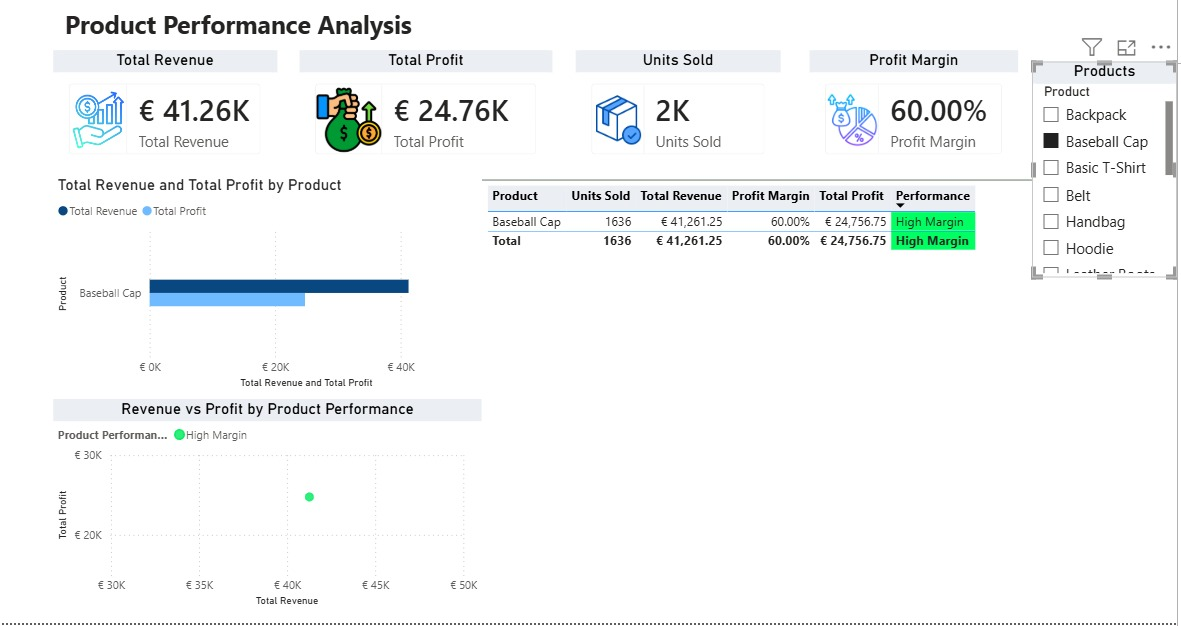

The dashboard page shown, as its layout file describes it:
{"tool":"powerbi","page":{"name":"Product Performance Analysis","canvas":[1280,720],"ordinal":1},"visuals":[{"type":"cardVisual","title":"Total Revenue","fields":{"Data":["Sales.Total Revenue"]},"box":[60.4,98.8,242.9,130.4],"z":0},{"type":"cardVisual","title":"Total Profit","fields":{"Data":["Sales.Total Profit"]},"box":[328,98.8,274.4,130.4],"z":1000},{"type":"cardVisual","title":"Units Sold","fields":{"Data":["Sales.Units Sold"]},"box":[628.5,98.8,222.3,130.4],"z":2000},{"type":"cardVisual","title":"Profit Margin","fields":{"Data":["Sales.Profit Margin"]},"box":[881,98.8,226.4,130.4],"z":3000},{"type":"clusteredBarChart","fields":{"Y":["Sales.Total Revenue","Sales.Total Profit"],"Category":["Products.Product"]},"box":[60.4,234.6,465.2,236],"z":4000},{"type":"slicer","title":"Products","fields":{"Values":["Products.Product"]},"box":[1122.5,111.1,157.8,234.6],"z":5000},{"type":"scatterChart","title":"Revenue vs Profit by Product Performance","fields":{"X":["Sales.Total Revenue"],"Y":["Sales.Total Profit"],"Category":["Products.Product"],"Series":["Sales.Product Performance Column"]},"box":[60.4,477.5,465.2,230.5],"z":6000},{"type":"tableEx","fields":{"Values":["Products.Product","Sales.Units Sold","Sales.Total Revenue","Sales.Profit Margin","Sales.Total Profit","Sales.Product Performance"]},"box":[525.6,234.6,596.9,396.6],"z":7000},{"type":"textbox","box":[61,47.5,434,51.5],"z":7001}]}

Visuals, with their boxes on the page's 1280x720 design canvas (x1, y1, x2, y2). These are canvas units, not pixel positions in the 1181x626 screenshot, which may show the page scaled, cropped or inside an application window:
"Total Revenue" cardVisual: <bbox>60, 99, 303, 229</bbox>
"Total Profit" cardVisual: <bbox>328, 99, 602, 229</bbox>
"Units Sold" cardVisual: <bbox>628, 99, 851, 229</bbox>
"Profit Margin" cardVisual: <bbox>881, 99, 1107, 229</bbox>
clusteredBarChart - Sales.Total Revenue x Sales.Total Profit: <bbox>60, 235, 526, 471</bbox>
"Products" slicer: <bbox>1122, 111, 1280, 346</bbox>
"Revenue vs Profit by Product Performance" scatterChart: <bbox>60, 478, 526, 708</bbox>
tableEx - Products.Product x Sales.Units Sold: <bbox>526, 235, 1122, 631</bbox>
textbox: <bbox>61, 48, 495, 99</bbox>
